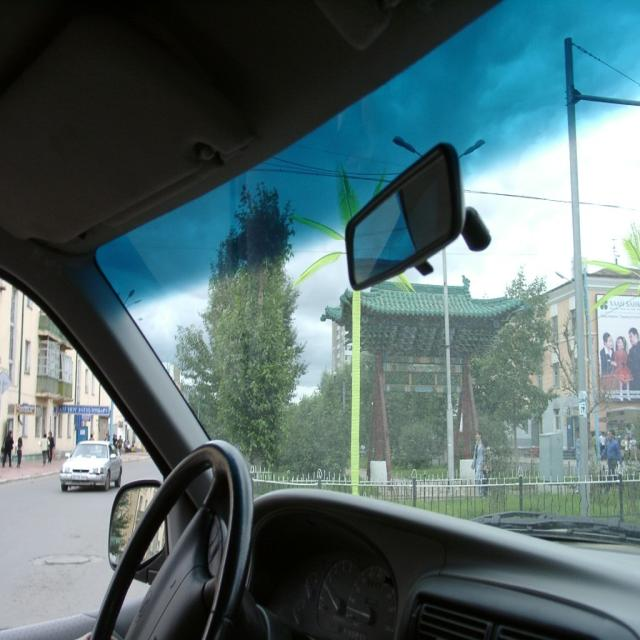car: (24, 83, 608, 626), (57, 435, 119, 488)
